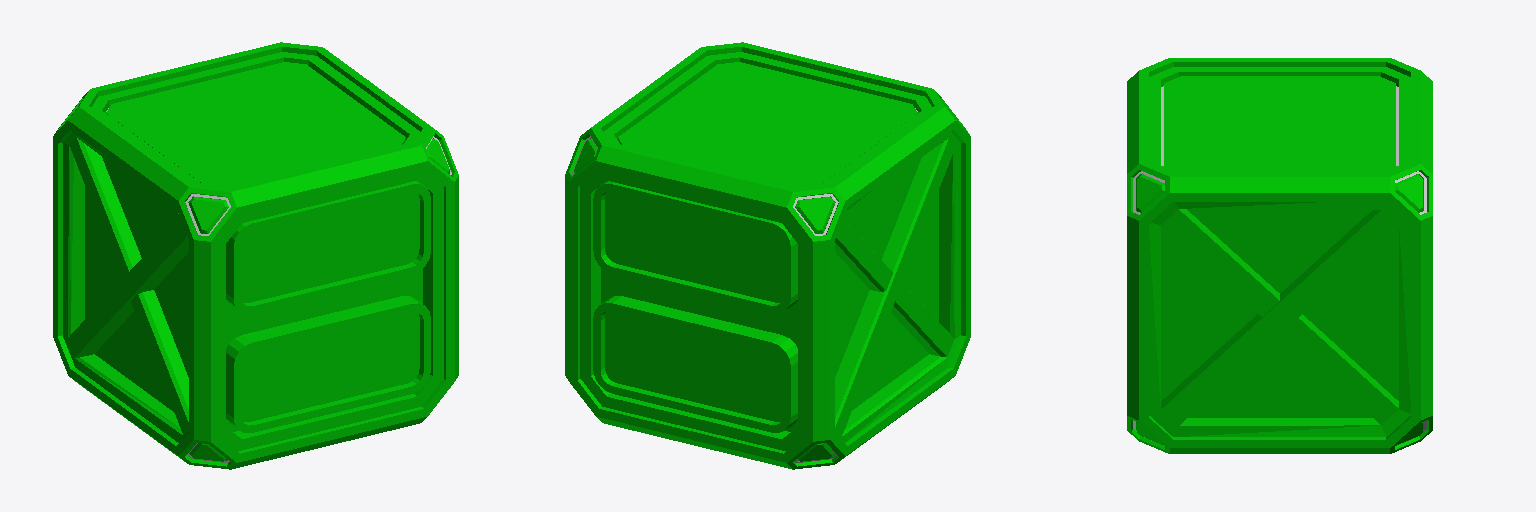
The model's file is Crate.obj.
3 renders of one model, left to right at view 1: azimuth 30°, elevation 25°; view 2: azimuth 150°, elevation 25°; view 3: azimuth 270°, elevation 25°, orthographic.
Parts seen in each view (by area): view 1: Cube.003_Cube.053; view 2: Cube.003_Cube.053; view 3: Cube.003_Cube.053.
Part boxes in pixels (x1,y1,x2,y2): Cube.003_Cube.053: (53, 42, 458, 469); Cube.003_Cube.053: (565, 42, 970, 469); Cube.003_Cube.053: (1127, 58, 1432, 453).
Bounding box in the file's own units: 1 × 1 × 1.